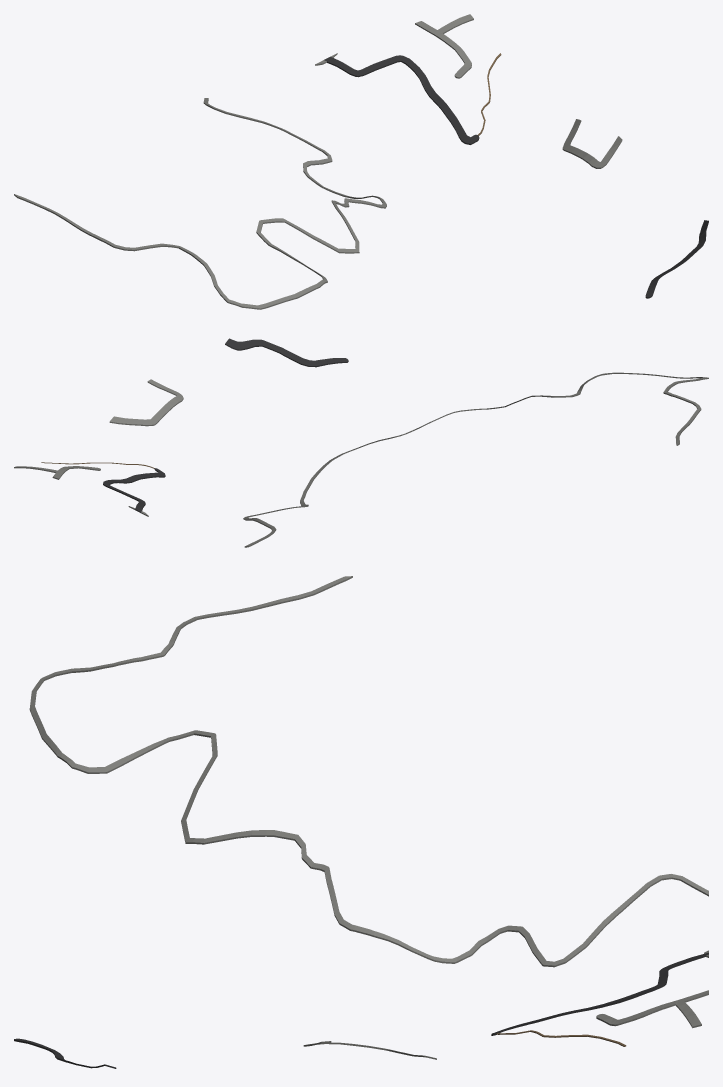
3 views of the same model, one above another, from view 1: azimuth 30°, elevation 25°; view 2: azimuth 150°, elevation 25°; view 3: azimuth 270°, elevation 25° (orthographic). The views are drawn at different scales.
Bounding box in the file's own units: 587 × 120 × 474.
